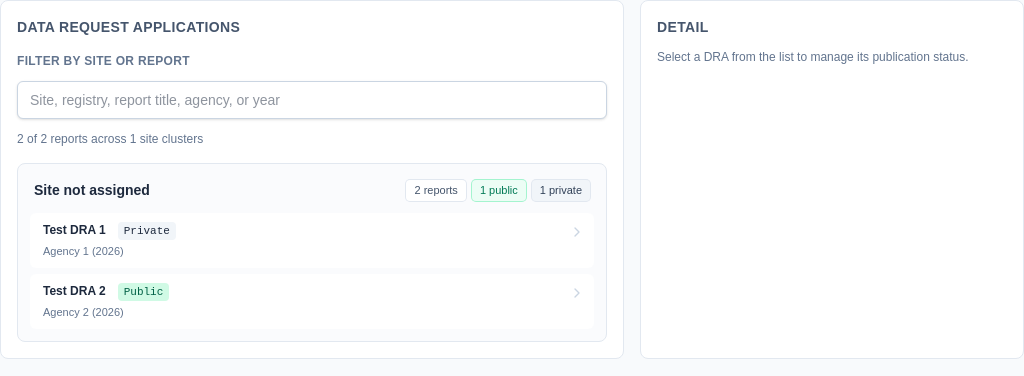
Test: DraPublishControl › fetches and renders audit history scoped to the selected DRA (per-DRA route, not a global list)
Click the button with test id "dra-row-22222222-2222-4222-8222-222222222222" at (74, 291), box top-left (30, 274), bottom-right (594, 329)
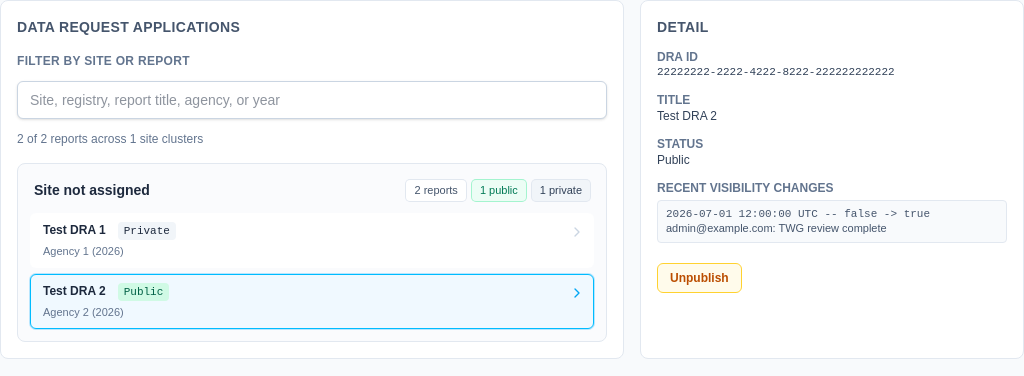
Check: the list with test id "dra-audit-history-list" is shown, box top-left (657, 200), bottom-right (1007, 243)
Check: the text "admin@example.com: TWG review complete" is shown, box top-left (666, 222), bottom-right (887, 234)
Click the button with test id "dra-row-11111111-1111-4111-8111-111111111111" at (74, 230), box top-left (30, 212), bottom-right (594, 268)
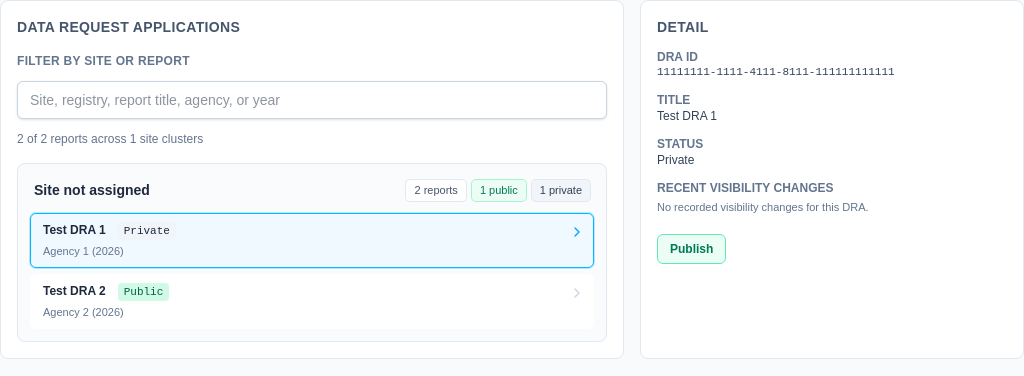
Check: the message "No recorded visibility changes for this DRA." is shown, box top-left (657, 201), bottom-right (868, 213)
Check: the list with test id "dra-audit-history-list" is gone
